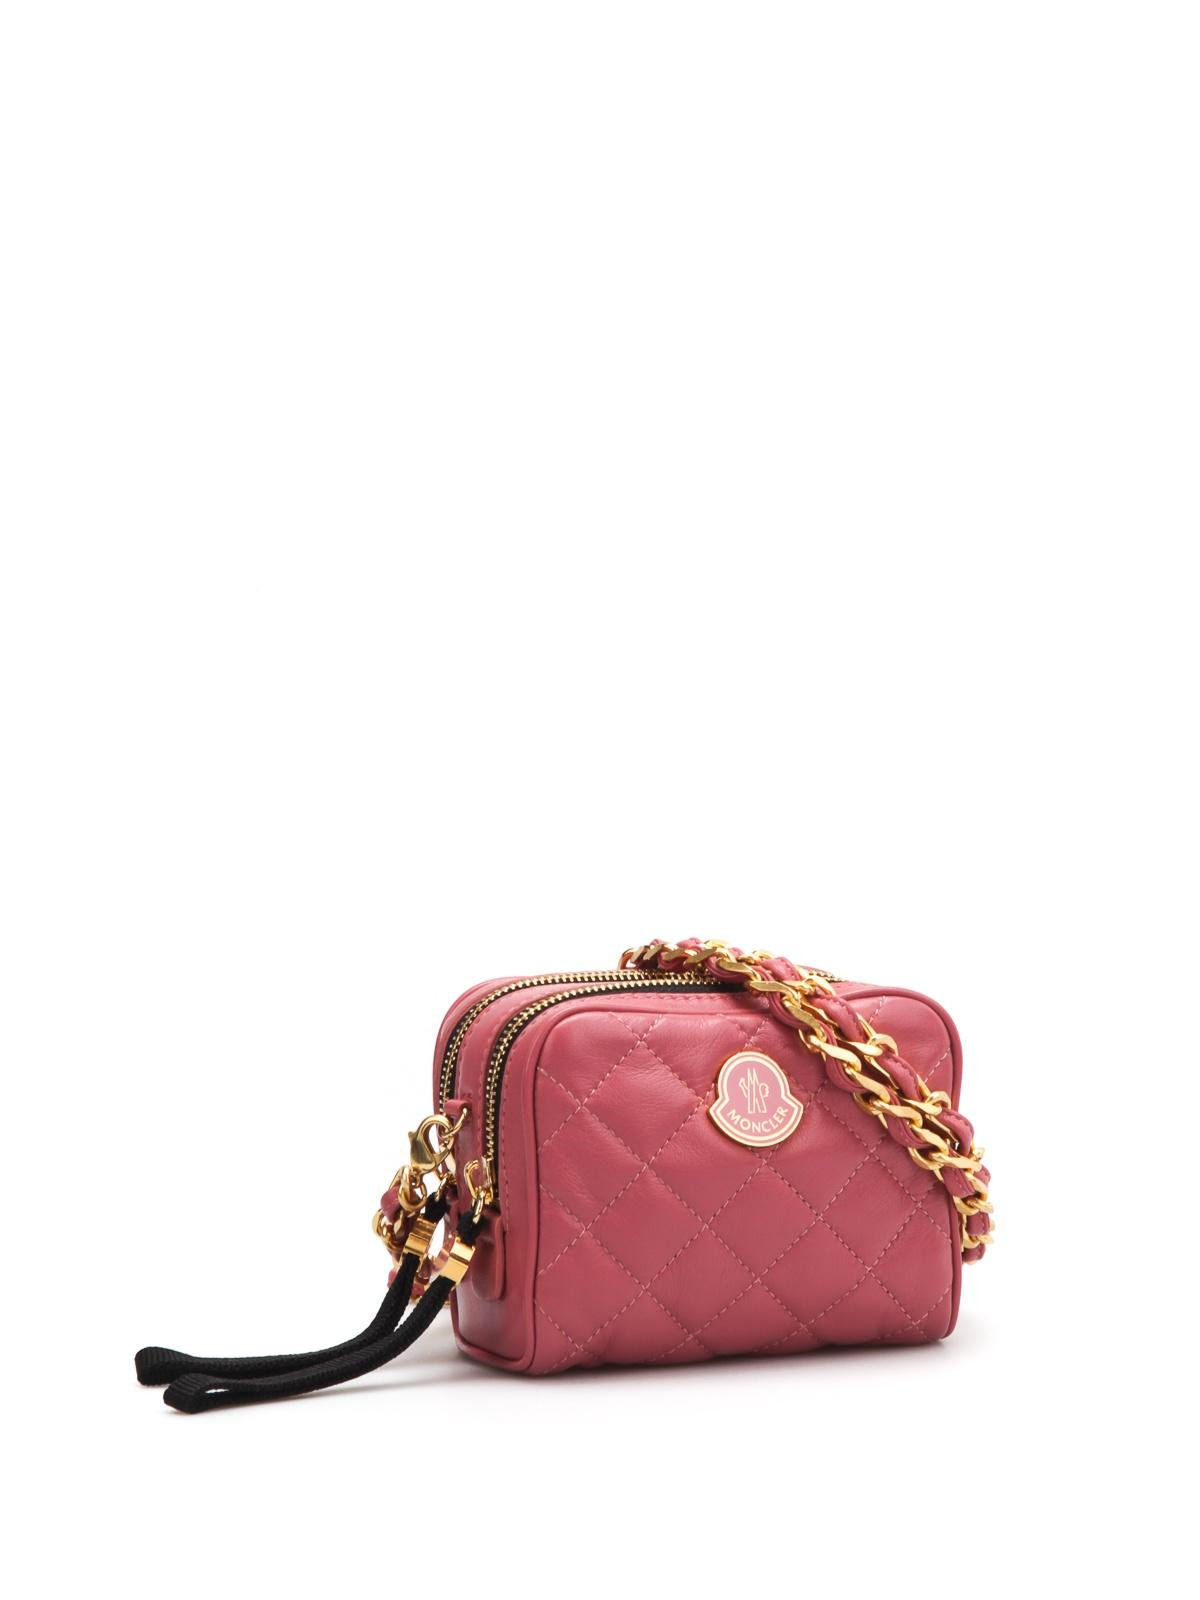MONCLER: (706, 1049, 807, 1150)
